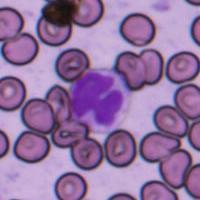N: (68, 68, 132, 134)
